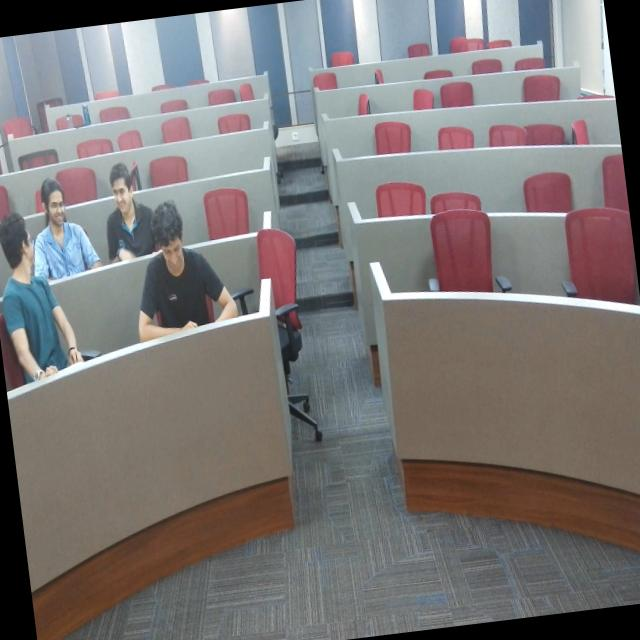cheating: (0, 213, 83, 408), (94, 151, 157, 276)
non-cheating: (116, 192, 231, 360)
